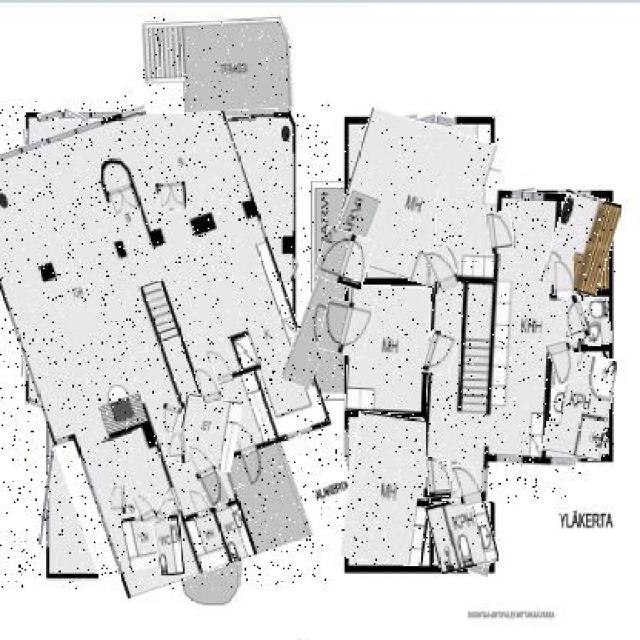door: (318, 229, 374, 286), (320, 300, 371, 355), (190, 440, 224, 508), (425, 331, 457, 375), (429, 246, 458, 294), (560, 296, 589, 342), (454, 462, 480, 508), (551, 340, 577, 383), (488, 212, 514, 254), (426, 457, 451, 497), (197, 364, 221, 404), (157, 183, 186, 211), (165, 432, 189, 465), (134, 494, 157, 526), (158, 405, 180, 437), (554, 260, 574, 295), (156, 494, 172, 523), (111, 484, 126, 514)
window: (334, 434, 360, 537), (43, 428, 54, 546), (23, 262, 31, 378), (500, 452, 531, 468), (25, 130, 29, 216), (120, 109, 149, 120), (504, 191, 536, 200), (469, 563, 489, 577), (39, 109, 63, 120), (398, 114, 418, 126), (417, 114, 437, 126), (437, 112, 454, 126), (63, 111, 89, 120), (557, 454, 578, 464), (488, 469, 497, 491), (28, 397, 43, 409), (558, 194, 588, 200), (92, 111, 119, 117), (178, 485, 184, 512), (378, 117, 396, 126), (150, 112, 172, 119), (292, 263, 297, 282)
zone: (0, 96, 329, 590), (428, 189, 584, 503), (338, 117, 498, 286), (143, 17, 294, 112), (345, 412, 437, 565), (297, 189, 363, 388), (346, 284, 431, 414), (546, 192, 616, 294), (548, 352, 614, 458), (430, 495, 496, 571), (178, 397, 240, 471), (121, 517, 157, 569), (155, 516, 183, 576), (583, 297, 611, 346)
